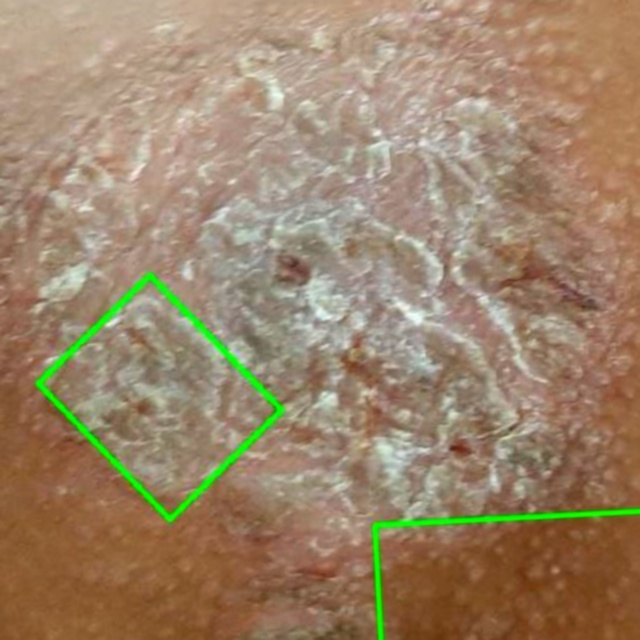Contact Dermatitis: (38, 275, 282, 520)
